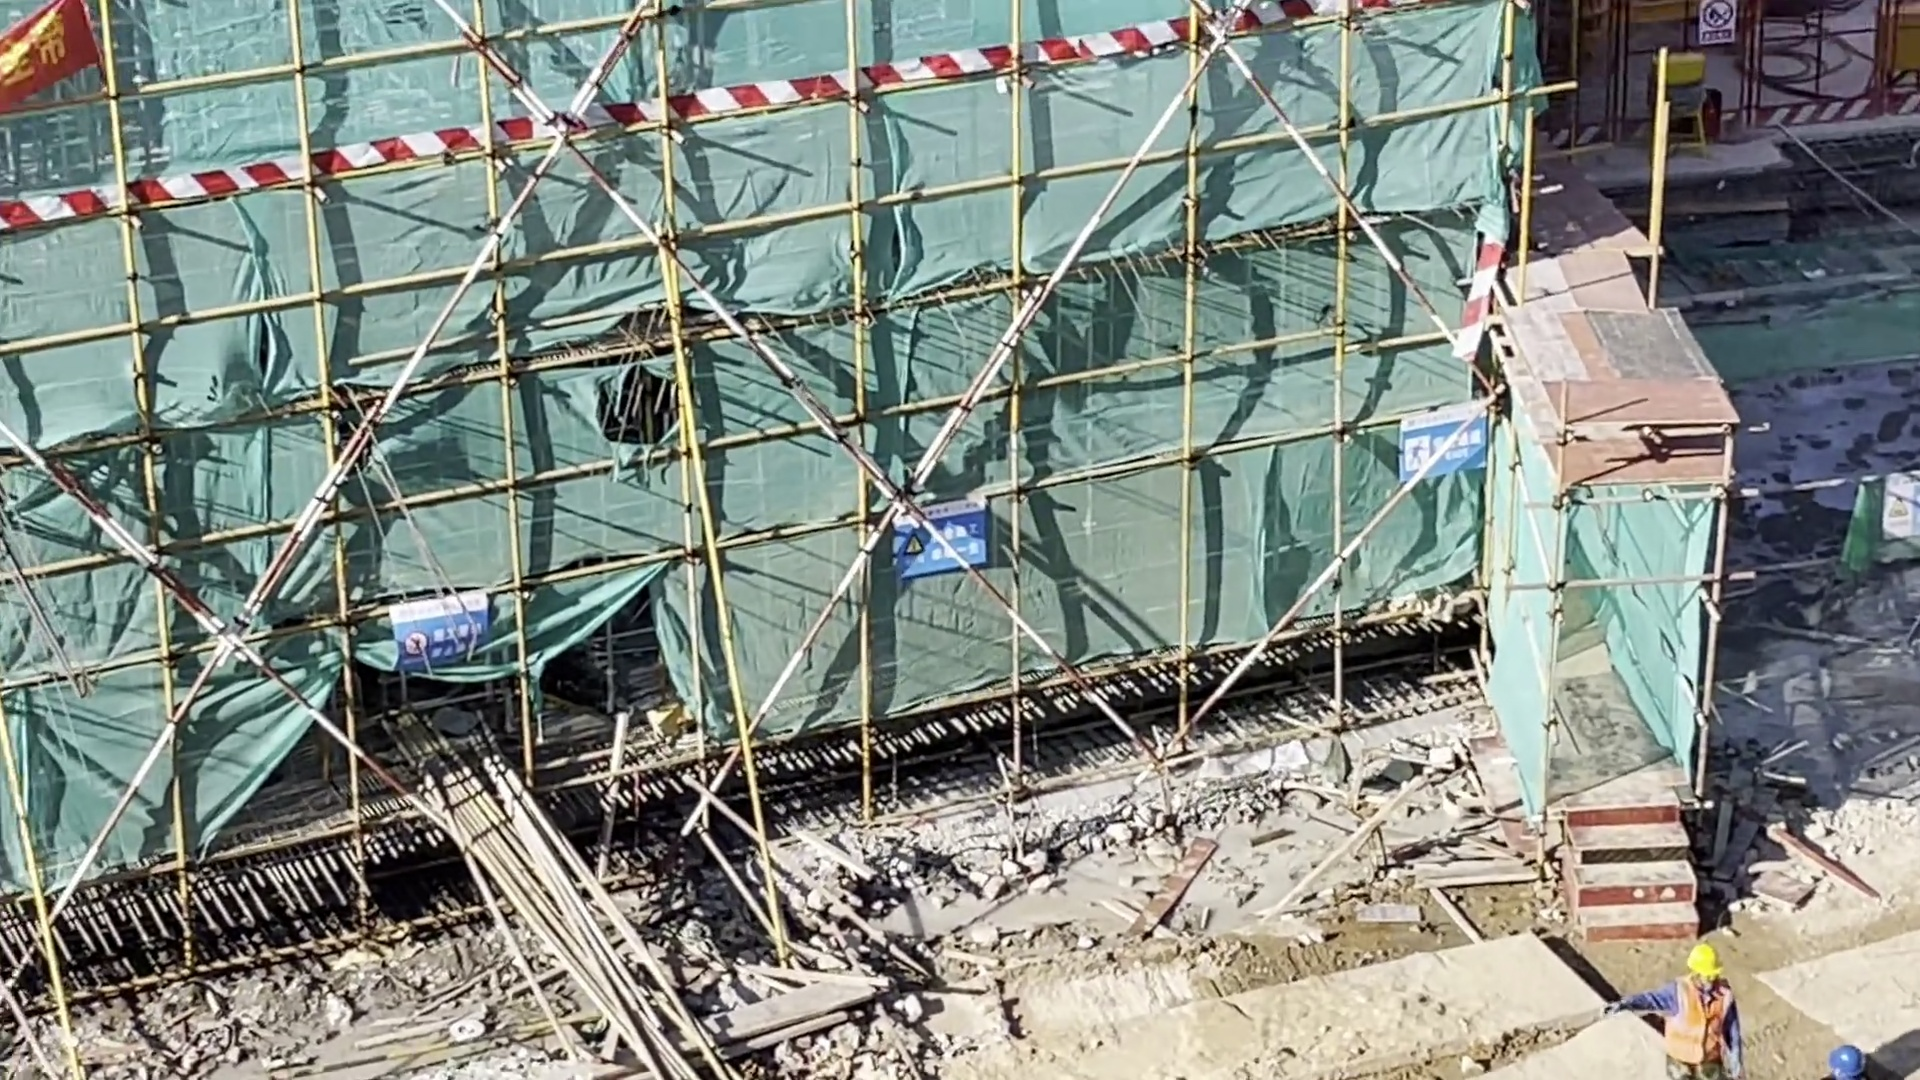helmet: (1681, 935, 1730, 985), (1823, 1034, 1869, 1080)
person: (1597, 946, 1760, 1080)
slogan: (384, 579, 558, 690), (885, 501, 1015, 584), (1396, 393, 1504, 480)
vest: (1660, 979, 1734, 1069)
